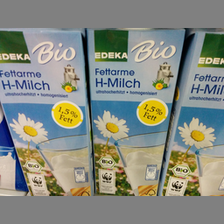milk: (86, 28, 184, 196), (1, 28, 95, 196)
